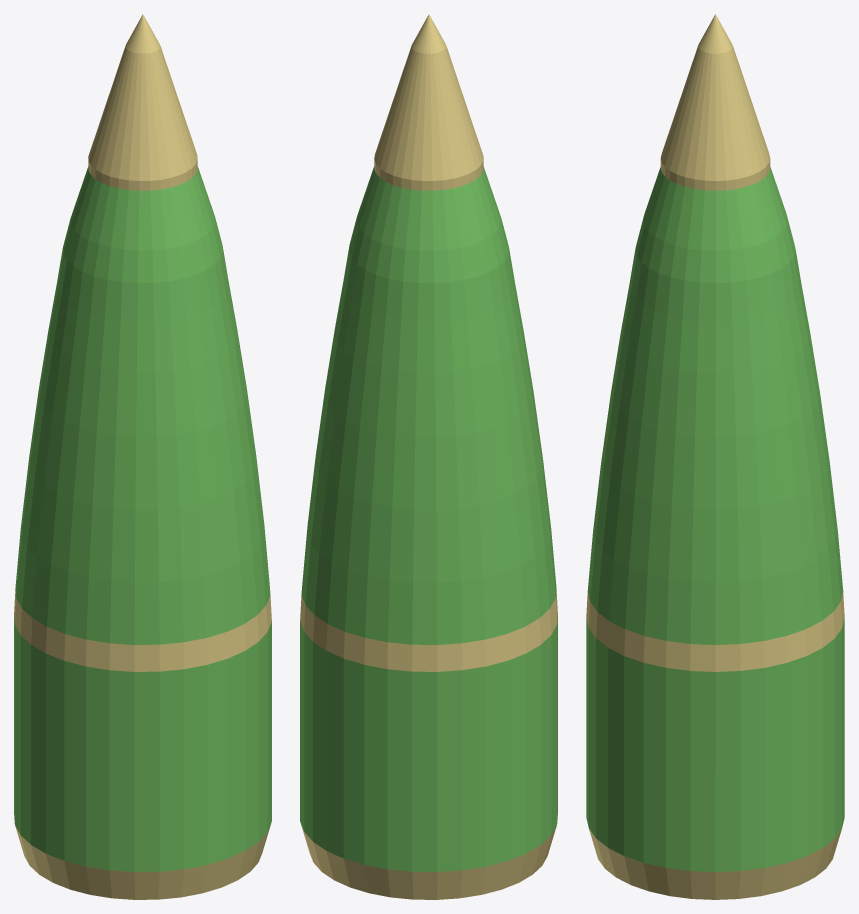
Rendered from Bullet.fbx.
The picture shows the model from 3 angles, left to right: view 1: azimuth 30°, elevation 25°; view 2: azimuth 150°, elevation 25°; view 3: azimuth 270°, elevation 25°; orthographic projection.
Parts seen in each view (by area): view 1: Bullet; view 2: Bullet; view 3: Bullet.
Boxes of the visible parts, x1,y1,x2,y2 form: Bullet: (14, 14, 271, 899); Bullet: (300, 14, 557, 899); Bullet: (586, 14, 844, 899).
Size of the model in its own units: 216 by 770 by 216.
